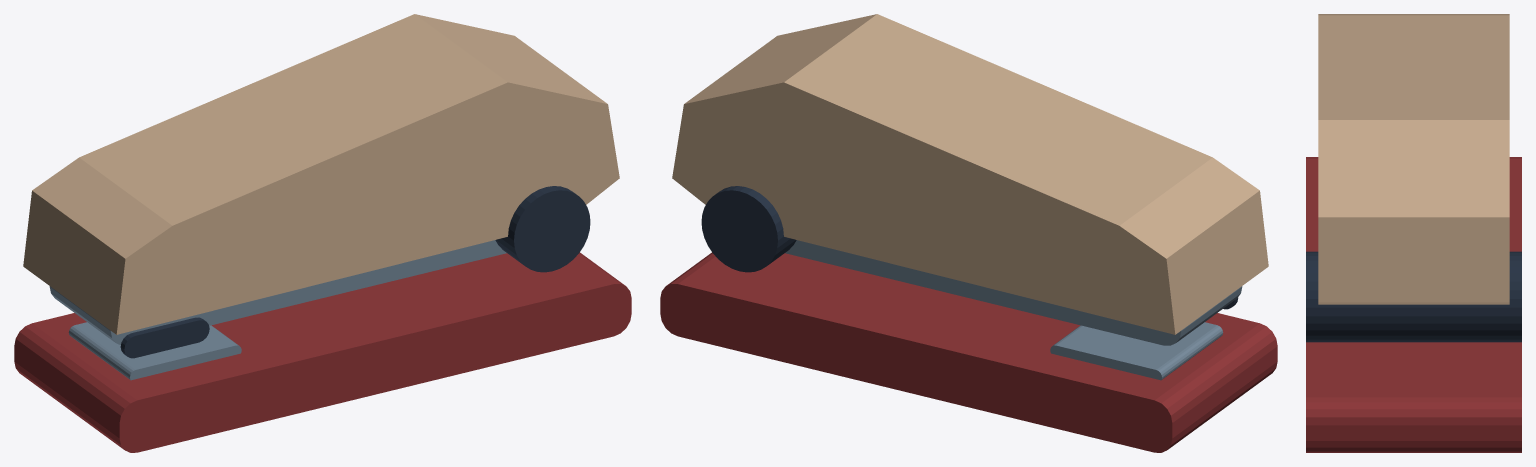
Rendered from nailer.glb.
3 views of the same model, side by side, from view 1: azimuth 30°, elevation 25°; view 2: azimuth 150°, elevation 25°; view 3: azimuth 270°, elevation 25° (orthographic). The views are drawn at different scales.
Parts seen in each view (by area): view 1: lever, base, hinge, magazine, anvil, paper notch; view 2: lever, base, magazine, hinge, anvil; view 3: lever, base, hinge.
Boxes of the visible parts, x1=… form: lever: x1=23, y1=14, x2=619, y2=334; base: x1=14, y1=252, x2=631, y2=452; hinge: x1=495, y1=186, x2=590, y2=272; magazine: x1=49, y1=240, x2=506, y2=345; anvil: x1=68, y1=322, x2=241, y2=380; paper notch: x1=120, y1=317, x2=209, y2=358; lever: x1=672, y1=14, x2=1268, y2=334; base: x1=660, y1=252, x2=1277, y2=452; magazine: x1=785, y1=240, x2=1242, y2=345; hinge: x1=701, y1=186, x2=796, y2=272; anvil: x1=1050, y1=322, x2=1223, y2=380; lever: x1=1318, y1=14, x2=1509, y2=304; base: x1=1306, y1=157, x2=1521, y2=452; hinge: x1=1306, y1=251, x2=1521, y2=342.
Size of the model in its own units: 1.74 by 0.89 by 0.62.
